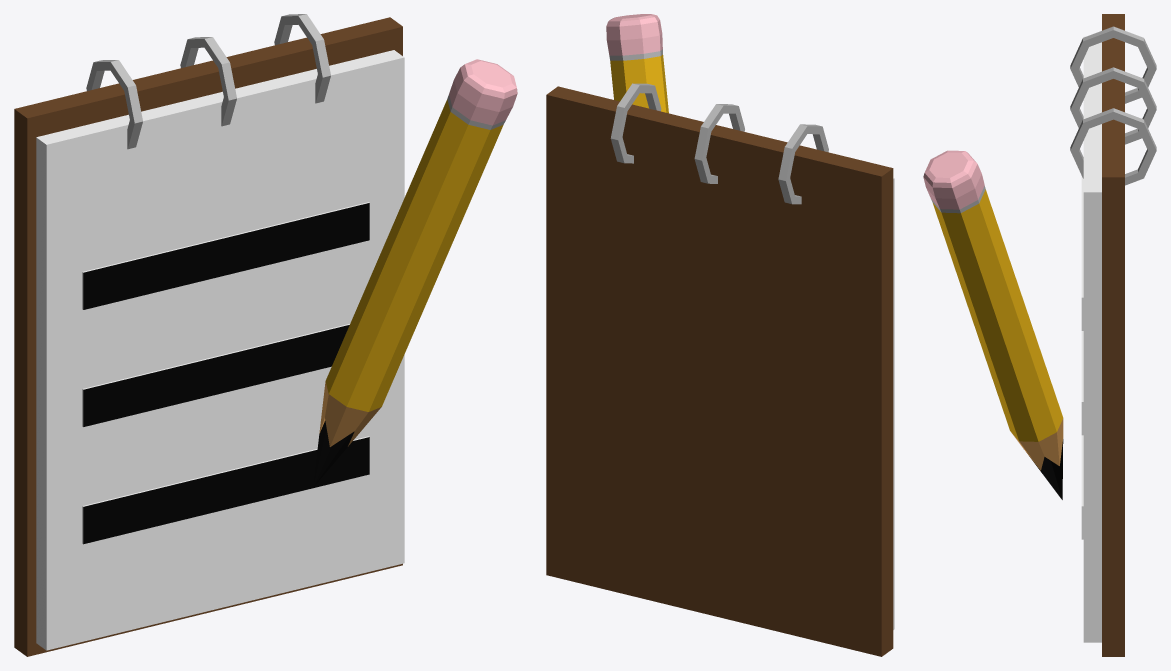
Rendered from Libreta_y_Lapiz.fbx.
3 renders of one model, left to right at view 1: azimuth 30°, elevation 25°; view 2: azimuth 150°, elevation 25°; view 3: azimuth 270°, elevation 25°, orthographic. The views are drawn at different scales.
Visible parts, largest first — view 1: Libreta_y_Lapiz; view 2: Libreta_y_Lapiz; view 3: Libreta_y_Lapiz.
Part boxes in pixels (x1,y1,x2,y2): Libreta_y_Lapiz: (14, 14, 517, 656); Libreta_y_Lapiz: (546, 14, 894, 656); Libreta_y_Lapiz: (923, 14, 1156, 656).
Size of the model in its own units: 22.52 by 30.34 by 12.68.
